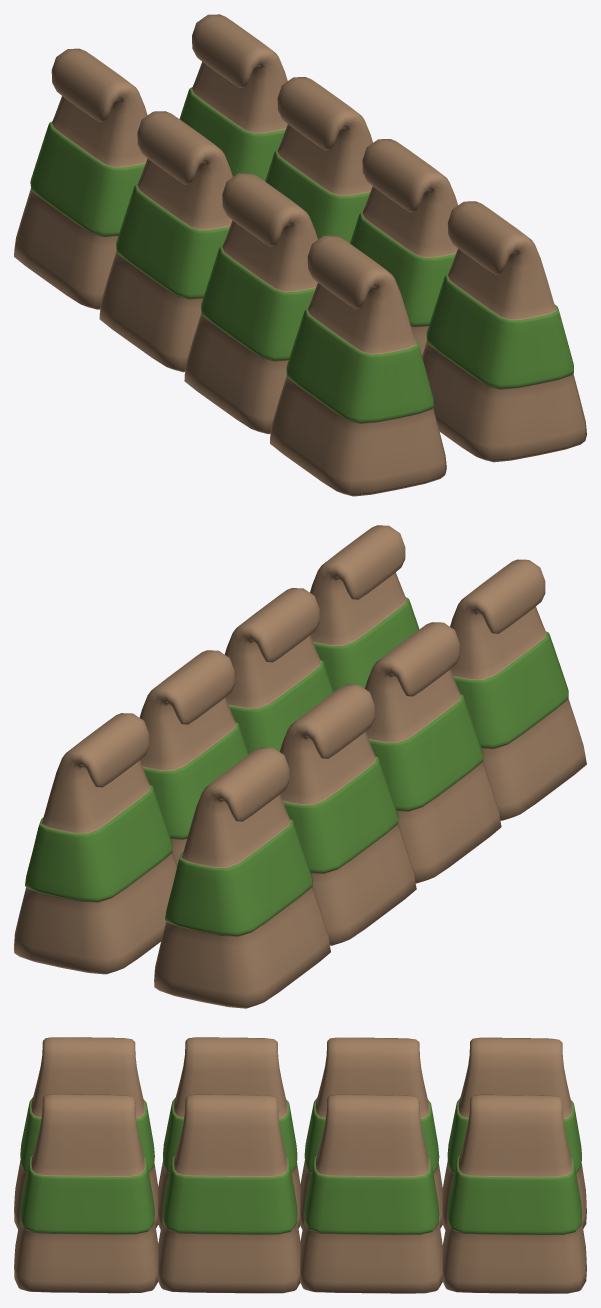
File: 袋装咖啡豆.fbx
3 views of the same model, one above another, from view 1: azimuth 30°, elevation 25°; view 2: azimuth 150°, elevation 25°; view 3: azimuth 270°, elevation 25° (orthographic). The views are drawn at different scales.
Parts seen in each view (by area): view 1: Cube.054; view 2: Cube.054; view 3: Cube.054.
Boxes of the visible parts, x1=… form: Cube.054: x1=14, y1=14, x2=586, y2=496; Cube.054: x1=14, y1=525, x2=586, y2=1008; Cube.054: x1=14, y1=1037, x2=586, y2=1293.
Bounding box in the file's own units: 58.09 × 46.54 × 136.
